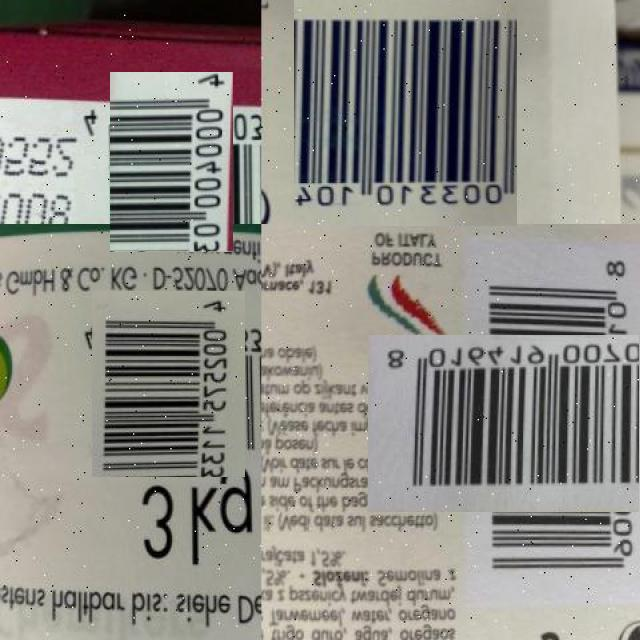Barcode: (415, 287, 640, 559), (292, 0, 518, 225), (83, 299, 253, 469), (95, 86, 248, 238)
